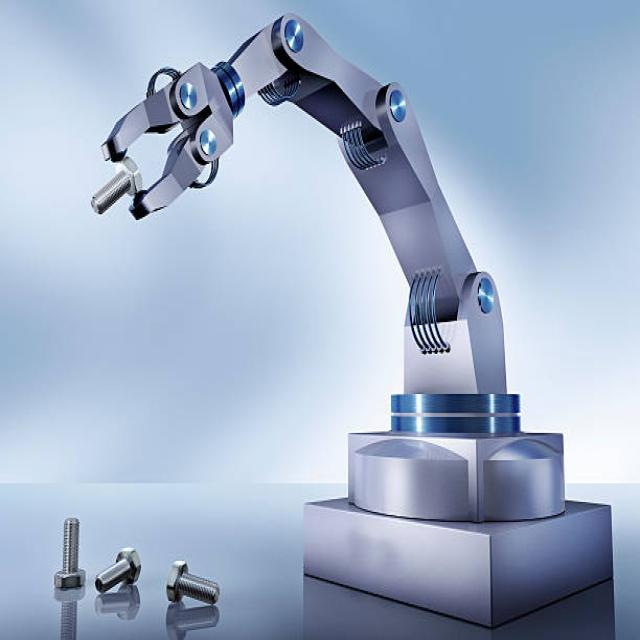Robotic-arm: (88, 11, 614, 624)
